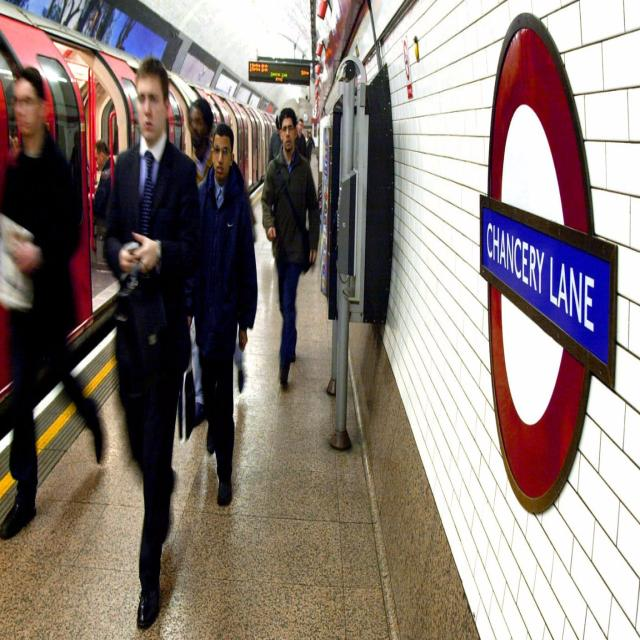body: (100, 54, 204, 634), (0, 62, 109, 545), (173, 120, 261, 511), (186, 95, 249, 427), (258, 103, 322, 394), (88, 137, 117, 240), (69, 129, 93, 223), (54, 108, 68, 171), (268, 114, 284, 162), (294, 117, 307, 170), (304, 128, 315, 166), (111, 120, 119, 156), (7, 131, 19, 152)
